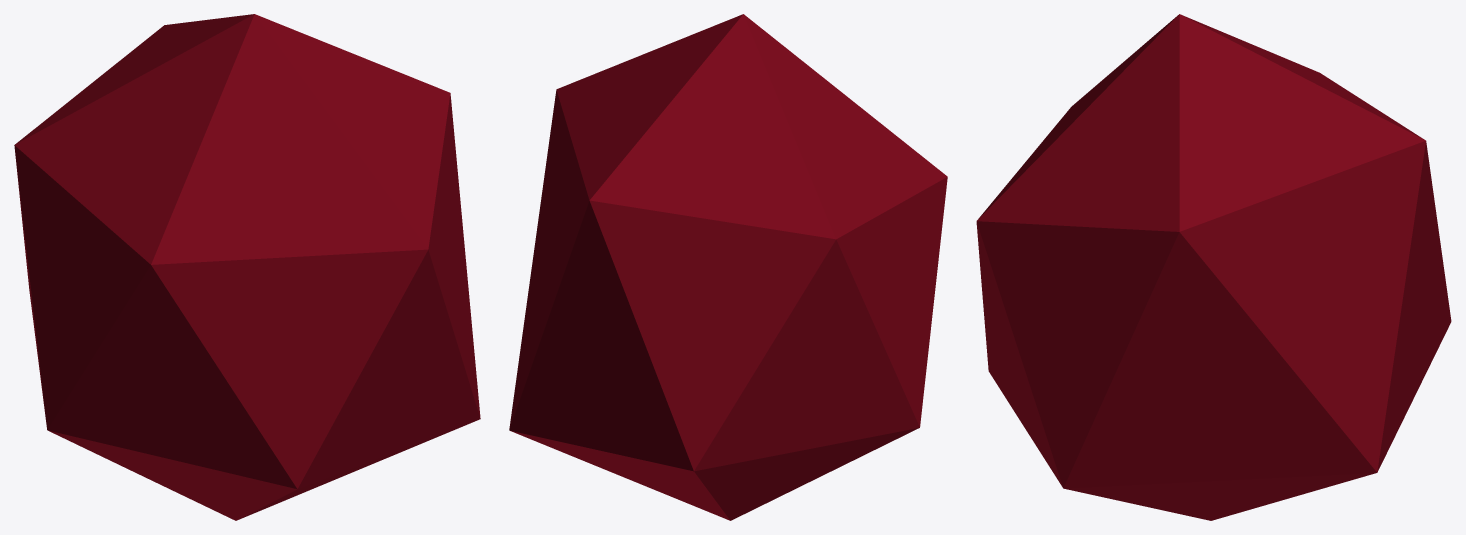
The model's file is Red Rock.fbx.
3 renders of one model, left to right at view 1: azimuth 30°, elevation 25°; view 2: azimuth 150°, elevation 25°; view 3: azimuth 270°, elevation 25°, orthographic. The views are drawn at different scales.
Visible parts, largest first — view 1: Icosphere; view 2: Icosphere; view 3: Icosphere.
Boxes of the visible parts, x1=… form: Icosphere: x1=14, y1=14, x2=480, y2=520; Icosphere: x1=509, y1=14, x2=947, y2=520; Icosphere: x1=976, y1=14, x2=1451, y2=520.
Bounding box in the file's own units: 110 × 139 × 117.
